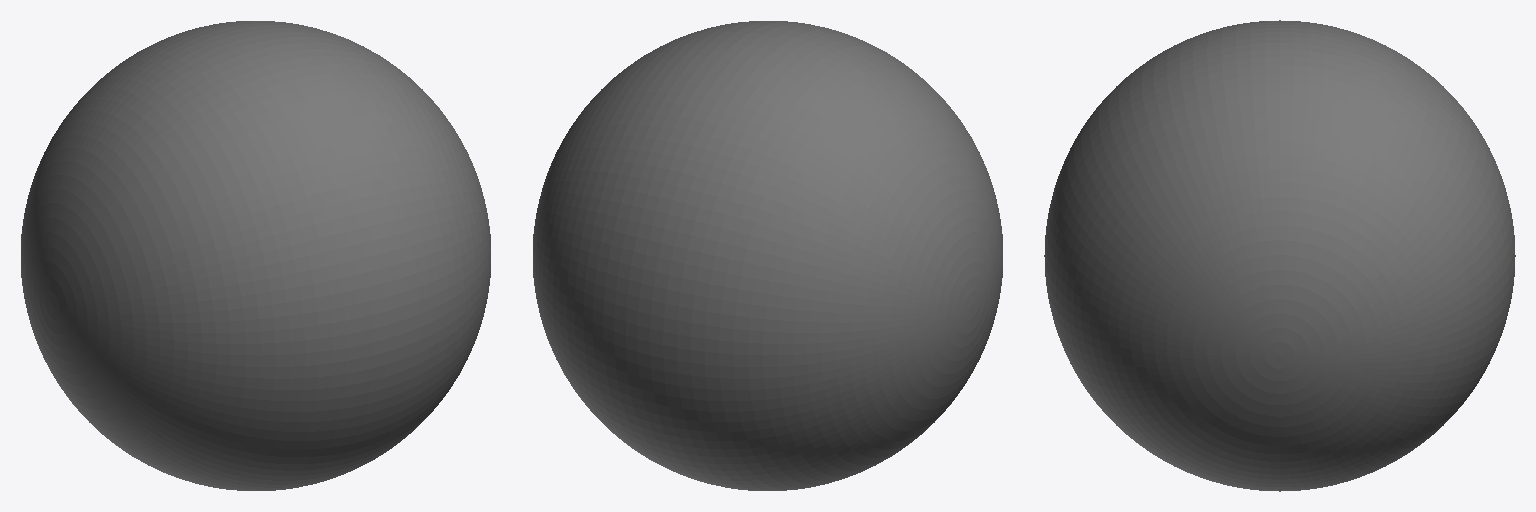
The model's file is sphere_rotate_sphere.obj.
3 views of the same model, side by side, from view 1: azimuth 30°, elevation 25°; view 2: azimuth 150°, elevation 25°; view 3: azimuth 270°, elevation 25° (orthographic).
Size of the model in its own units: 0.4 by 0.4 by 0.4.